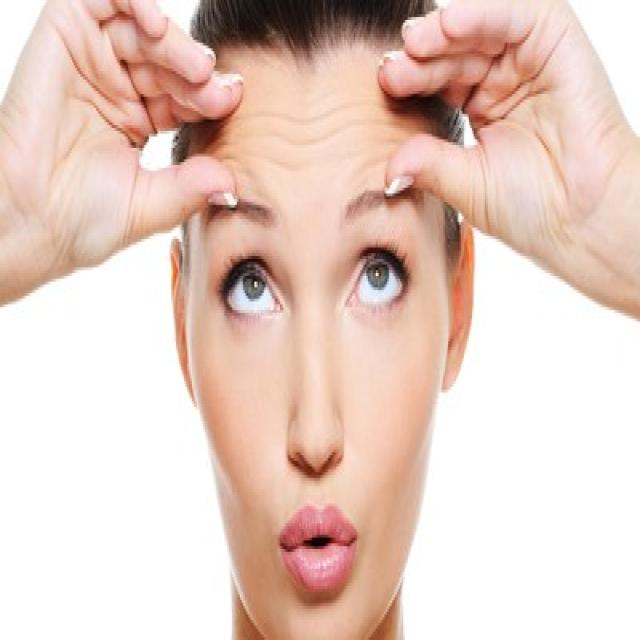Dry-Skin: (235, 60, 396, 184)
